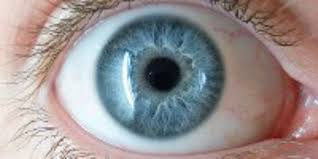pupil: (98, 16, 225, 136)
